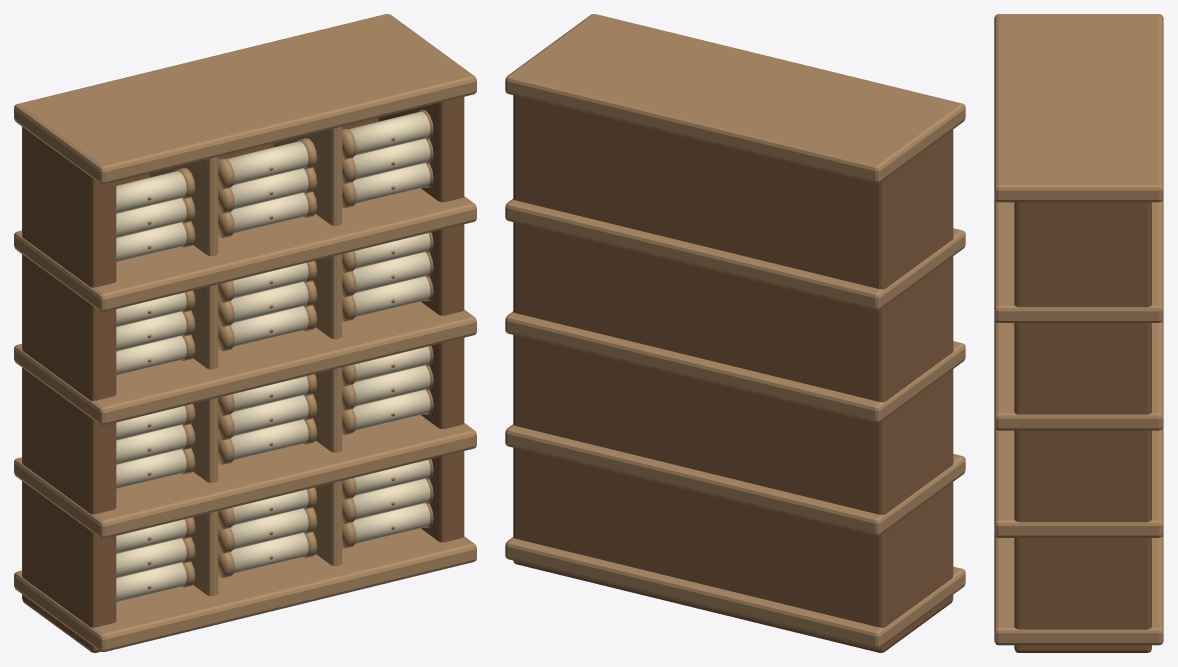
File: scroll-rack.glb
The picture shows the model from 3 angles, left to right: view 1: azimuth 30°, elevation 25°; view 2: azimuth 150°, elevation 25°; view 3: azimuth 270°, elevation 25°; orthographic projection. The views are drawn at different scales.
Visible parts, largest first — view 1: scroll-rack__woodlight, scroll-rack__linen, scroll-rack__wood; view 2: scroll-rack__wood, scroll-rack__woodlight; view 3: scroll-rack__woodlight, scroll-rack__wood.
Part boxes in pixels (left/top/right/bottom): scroll-rack__woodlight: left=14, top=14, right=476, bottom=651; scroll-rack__linen: left=116, top=111, right=430, bottom=602; scroll-rack__wood: left=22, top=97, right=464, bottom=652; scroll-rack__wood: left=513, top=95, right=953, bottom=652; scroll-rack__woodlight: left=505, top=14, right=965, bottom=648; scroll-rack__woodlight: left=994, top=14, right=1163, bottom=645; scroll-rack__wood: left=1014, top=202, right=1151, bottom=652.
Bounding box in the file's own units: 1.95 × 2.44 × 0.8.
